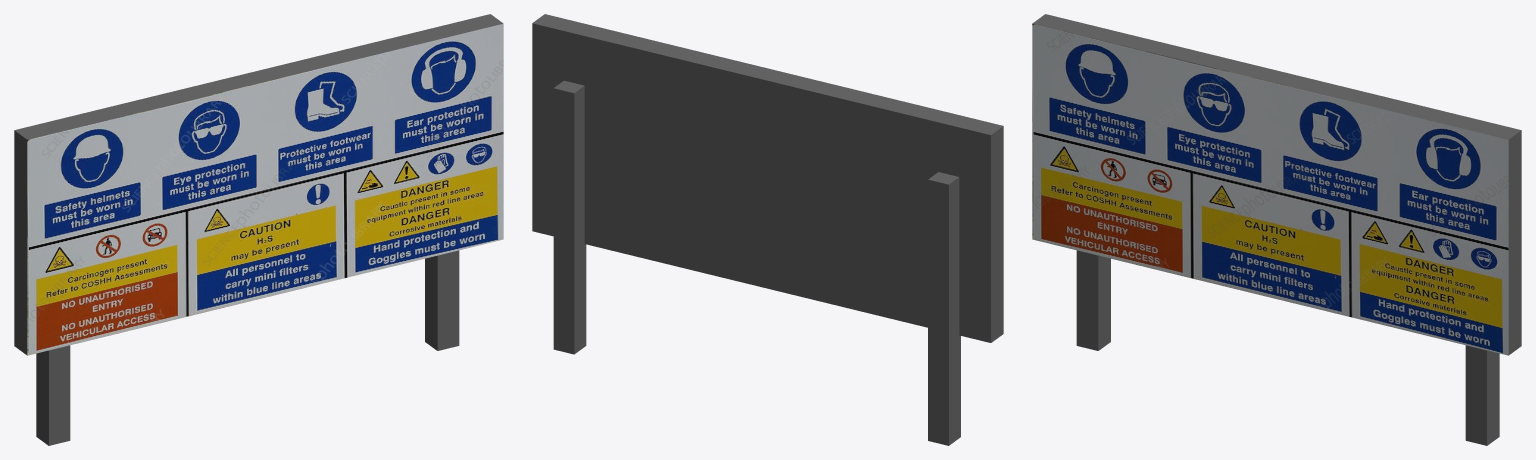
Rendered from CautionSign.fbx.
The picture shows the model from 3 angles, left to right: view 1: azimuth 30°, elevation 25°; view 2: azimuth 150°, elevation 25°; view 3: azimuth 330°, elevation 25°; orthographic projection. The views are drawn at different scales.
Visible parts, largest first — view 1: Cube; view 2: Cube; view 3: Cube.
Part boxes in pixels (x1,y1,x2,y2): Cube: (14,14,503,445); Cube: (532,14,1003,445); Cube: (1032,14,1521,445).
Size of the model in its own units: 221 by 143 by 19.28.
